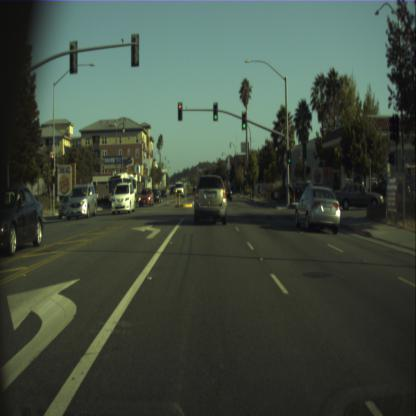Green: (212, 102, 218, 120), (242, 110, 247, 129), (287, 150, 291, 163)
RedLeft: (177, 102, 182, 120), (50, 154, 54, 168)
